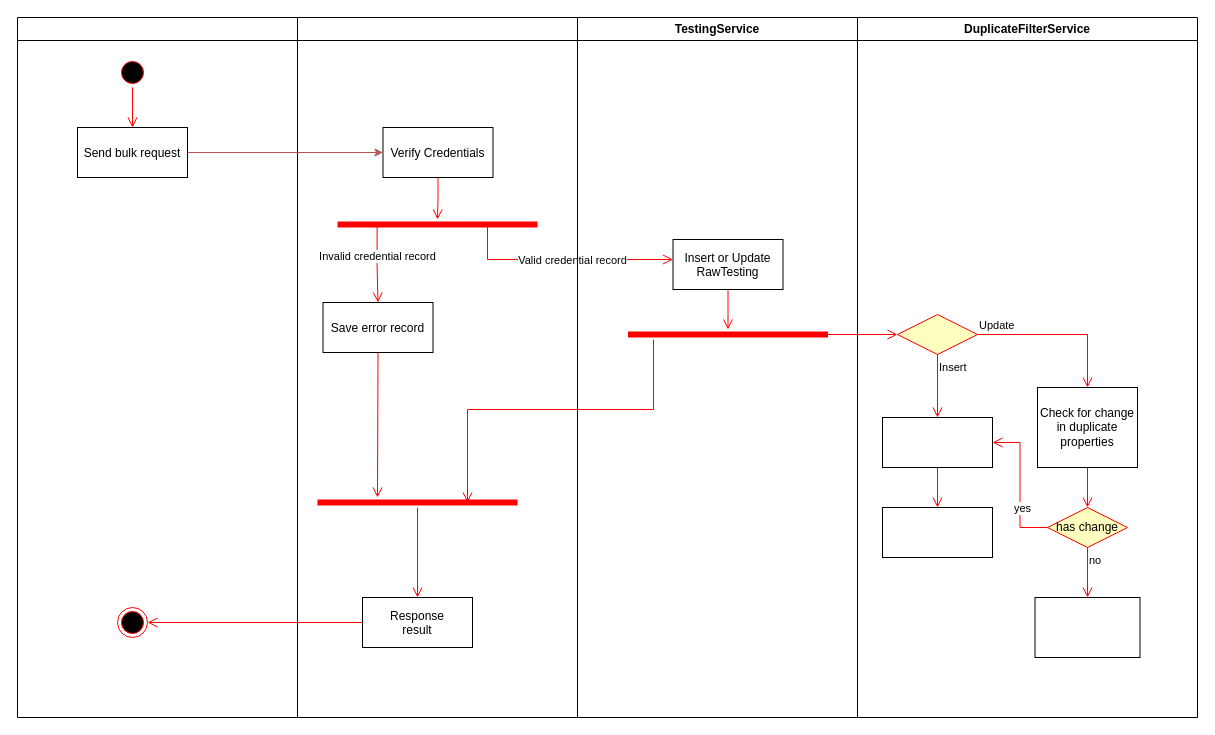
Some shapes in this 1215 by 735 pixel diagram are drawn without their labels. The shapes that lost their labels are listed below. From the top down, each one's box as (x1, y1, x2, y2) in pixels, then its label:
(16, 16, 298, 718): KPElog
(296, 16, 578, 718): TestingsController
(882, 416, 992, 468): Duplicate filtering
(882, 506, 992, 558): Insert to Histories
(1034, 596, 1140, 658): Update existed history
